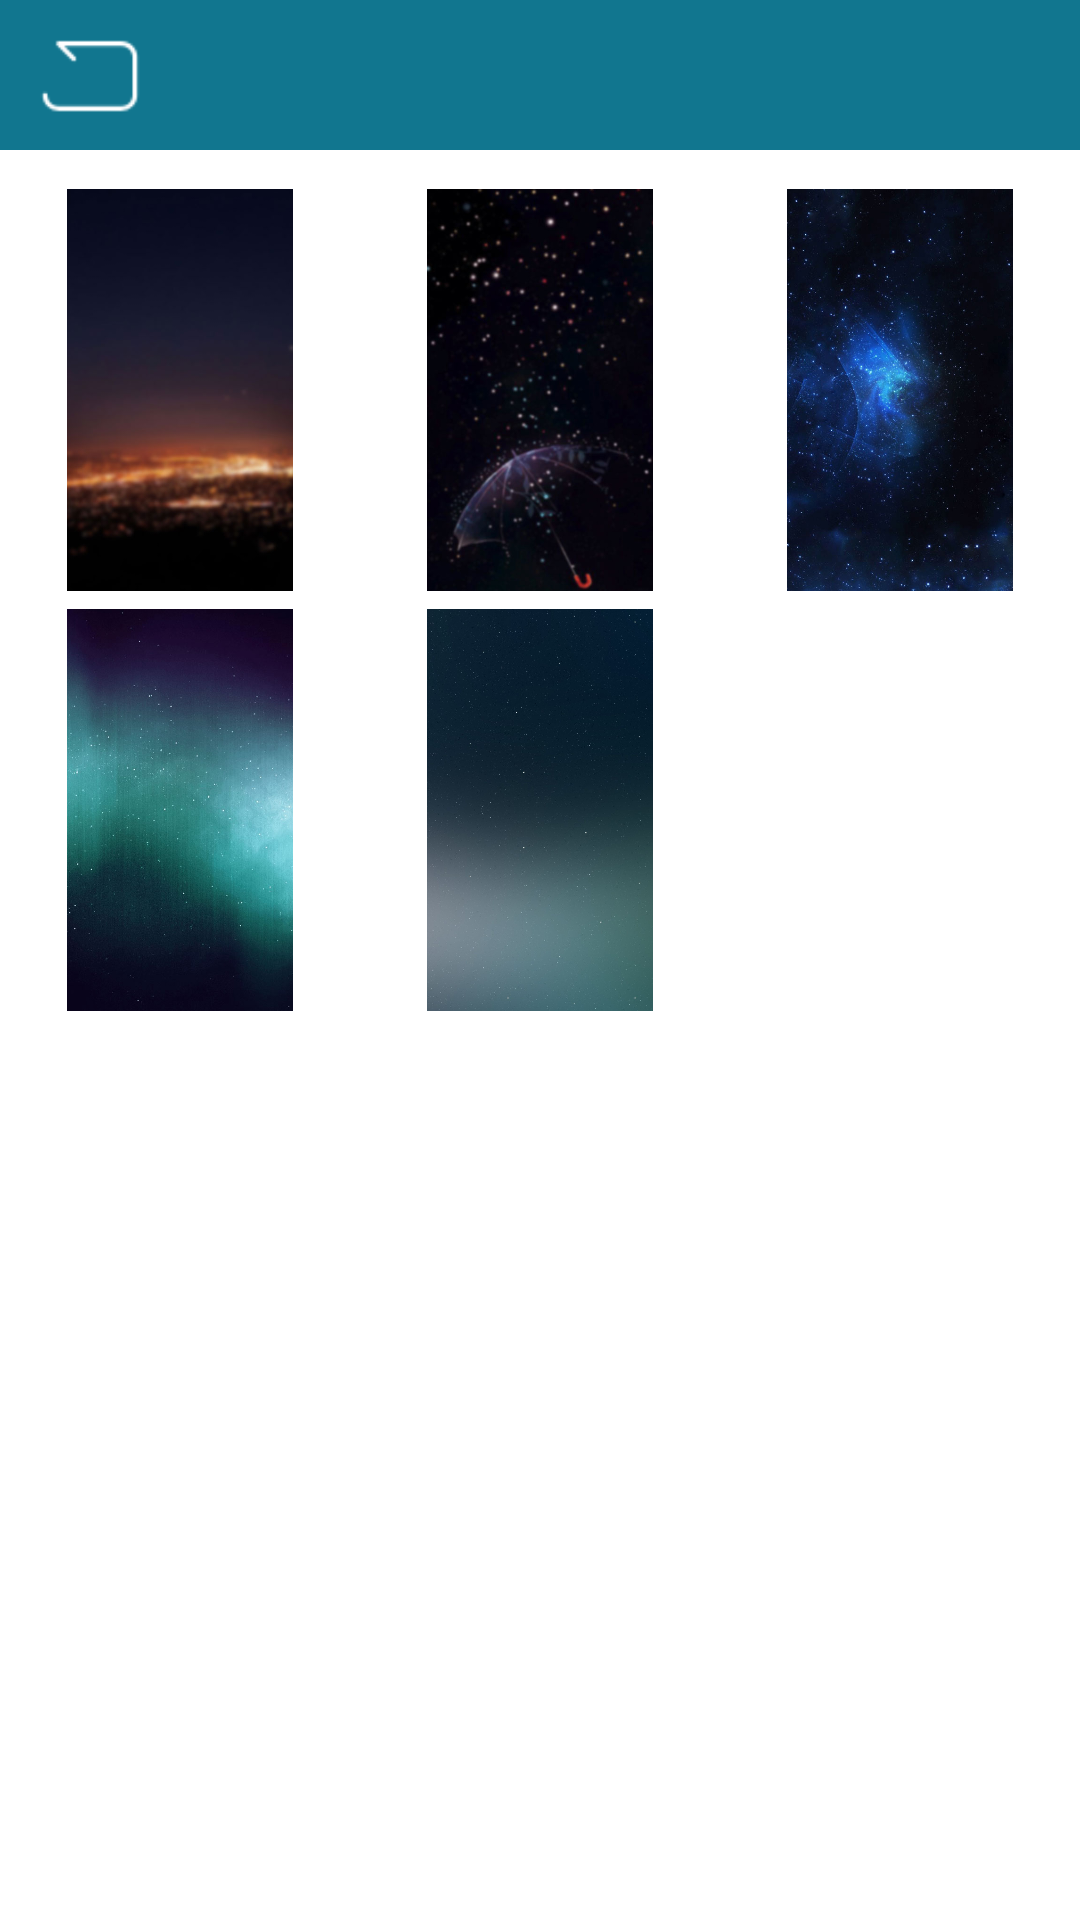

Icons on this 1080×1920 Android screen, each with its box as (x1, y1, x2, y2):
back: (42, 40, 138, 112)
